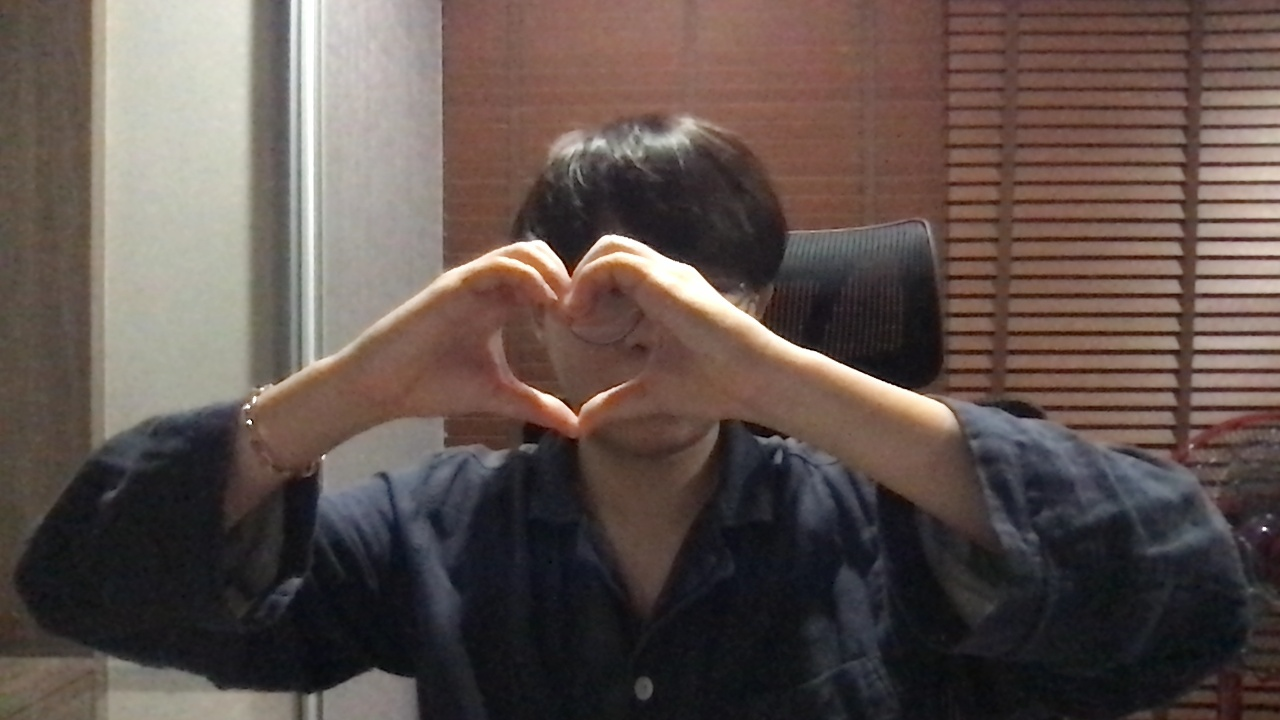heart: (432, 232, 732, 441)
